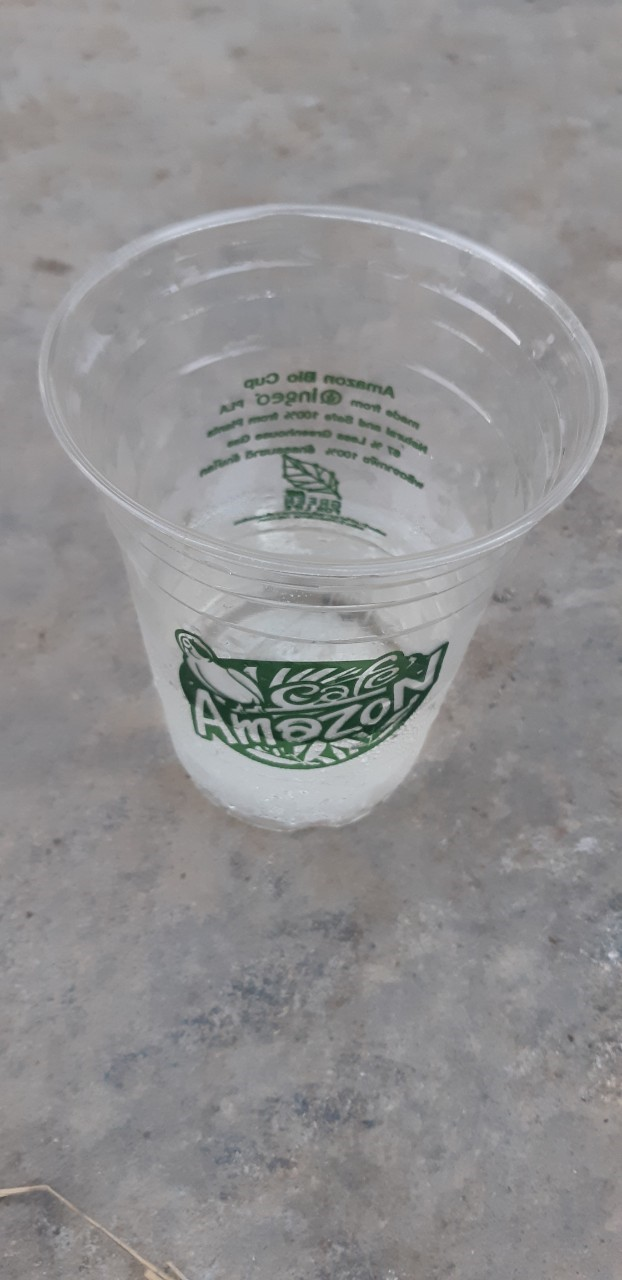PlasticCup: (31, 190, 604, 843)
